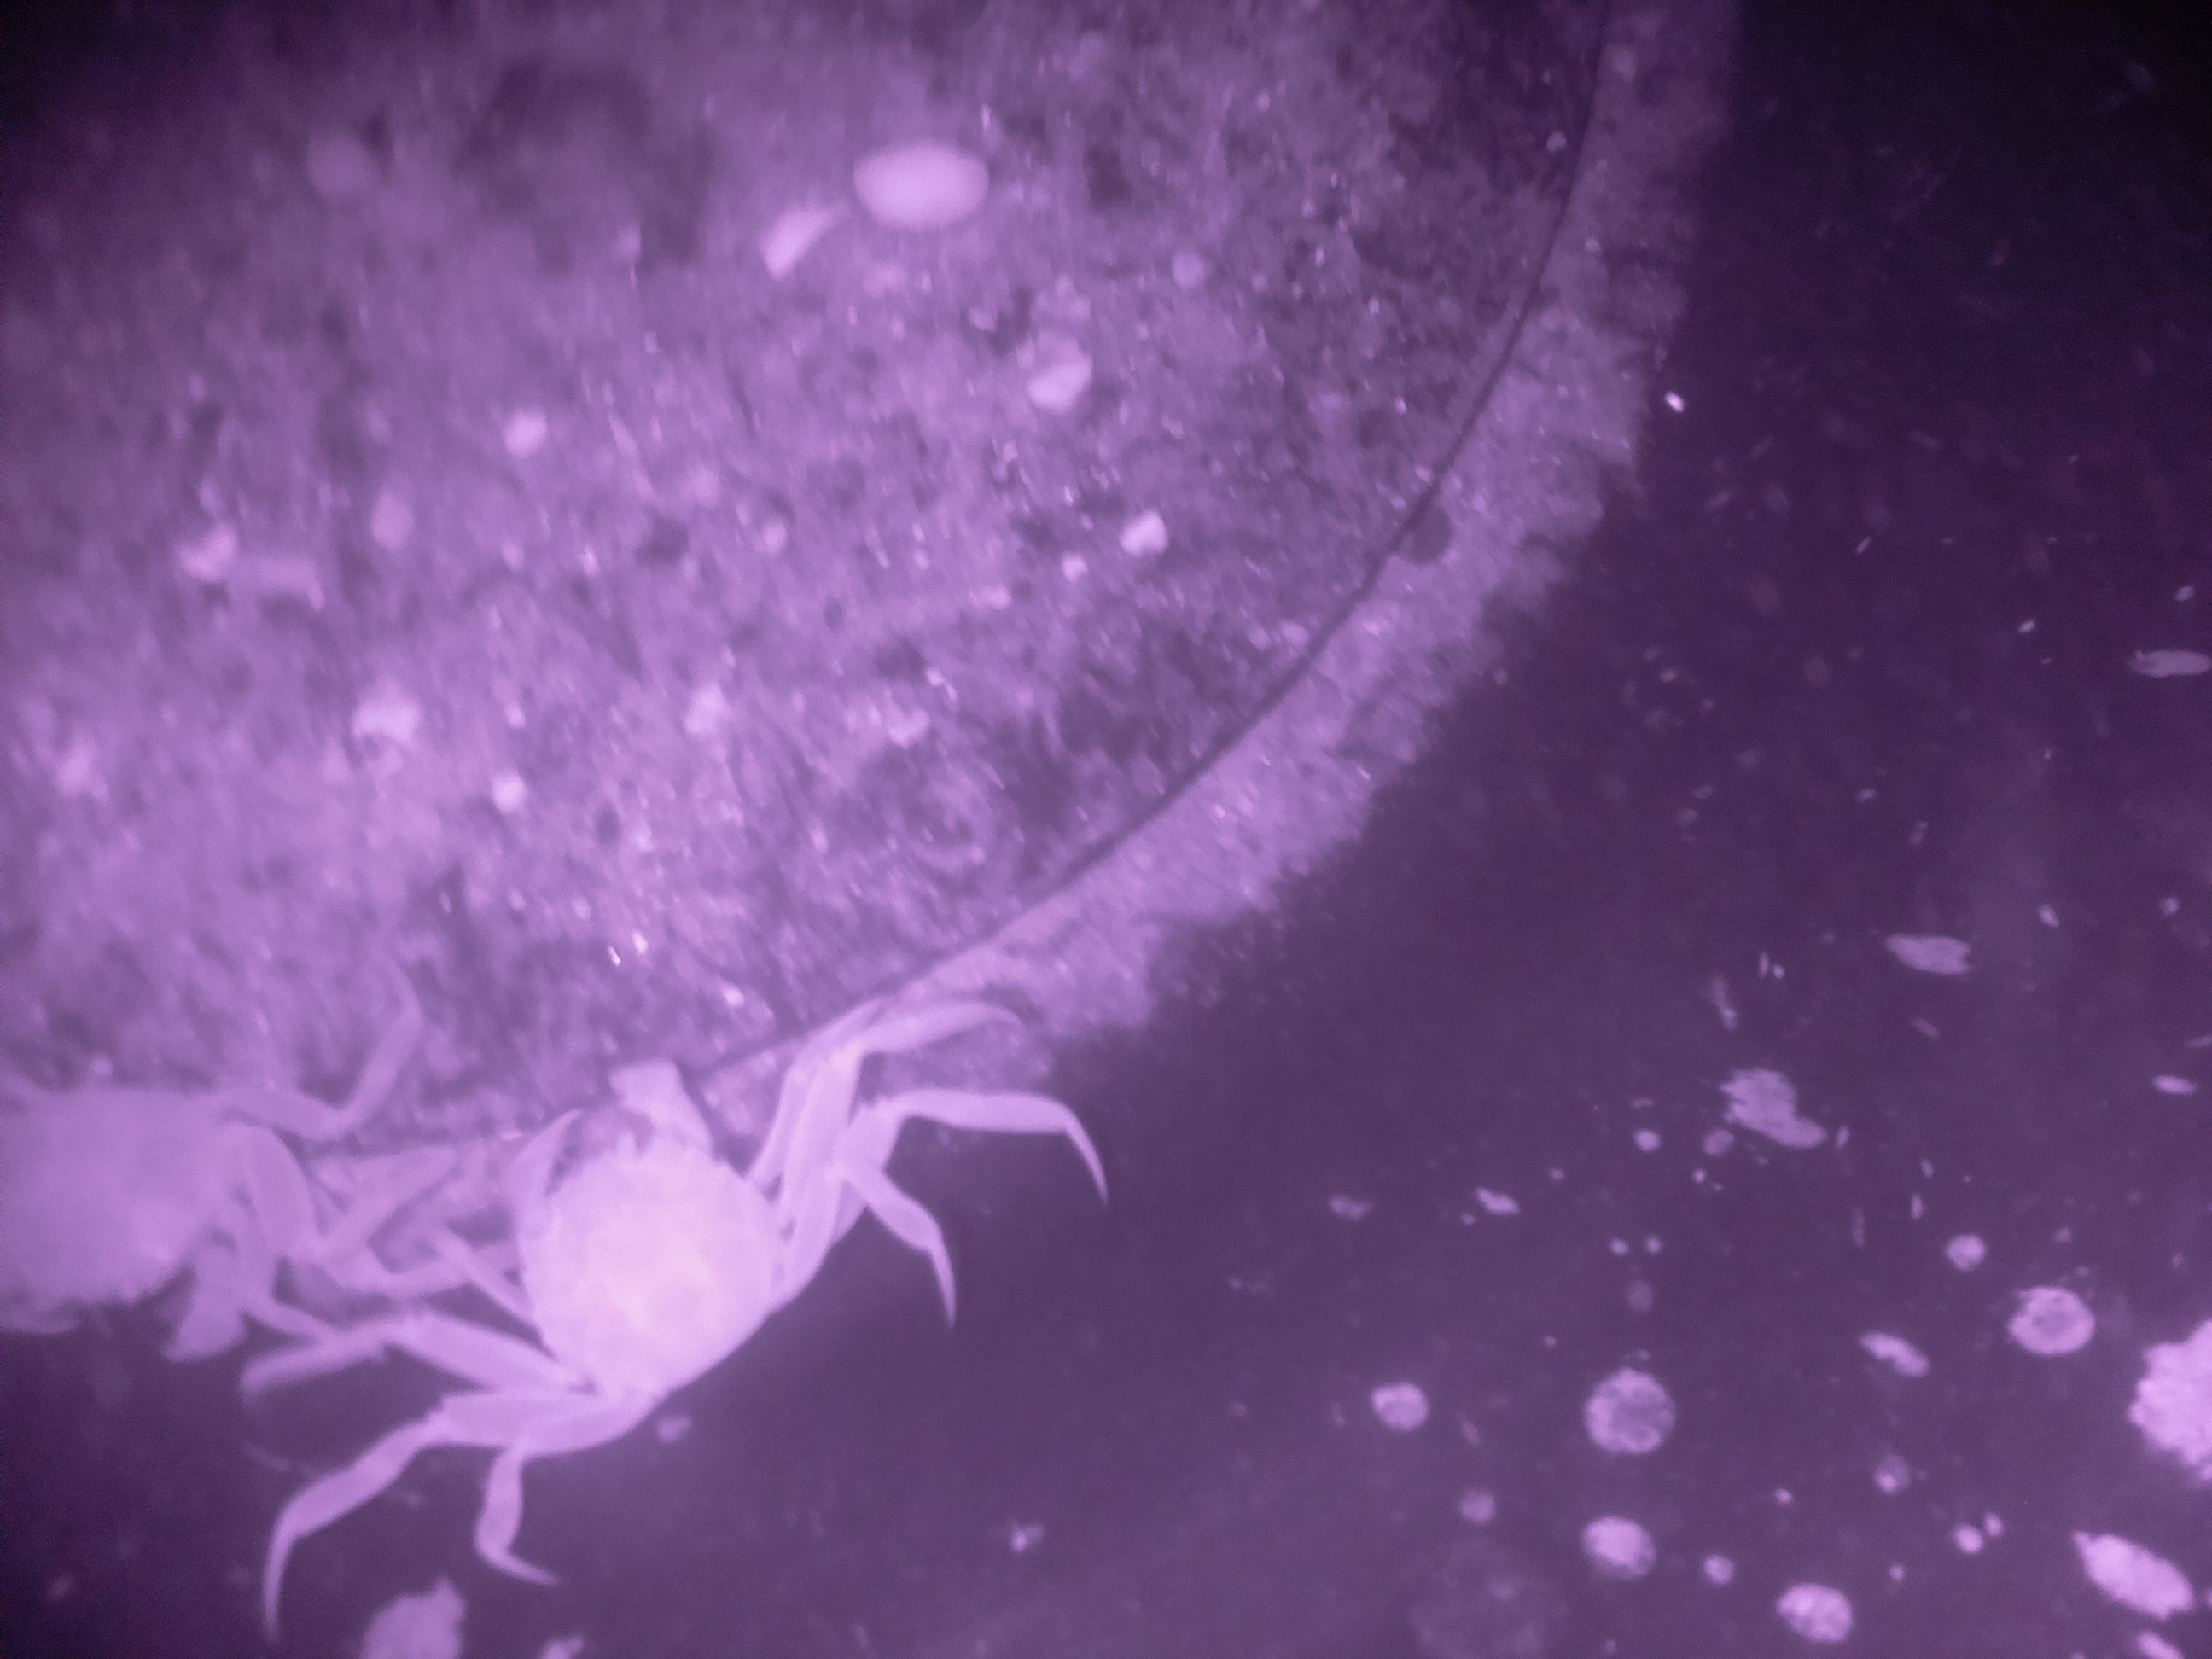Crab: (354, 1037, 958, 1499)
